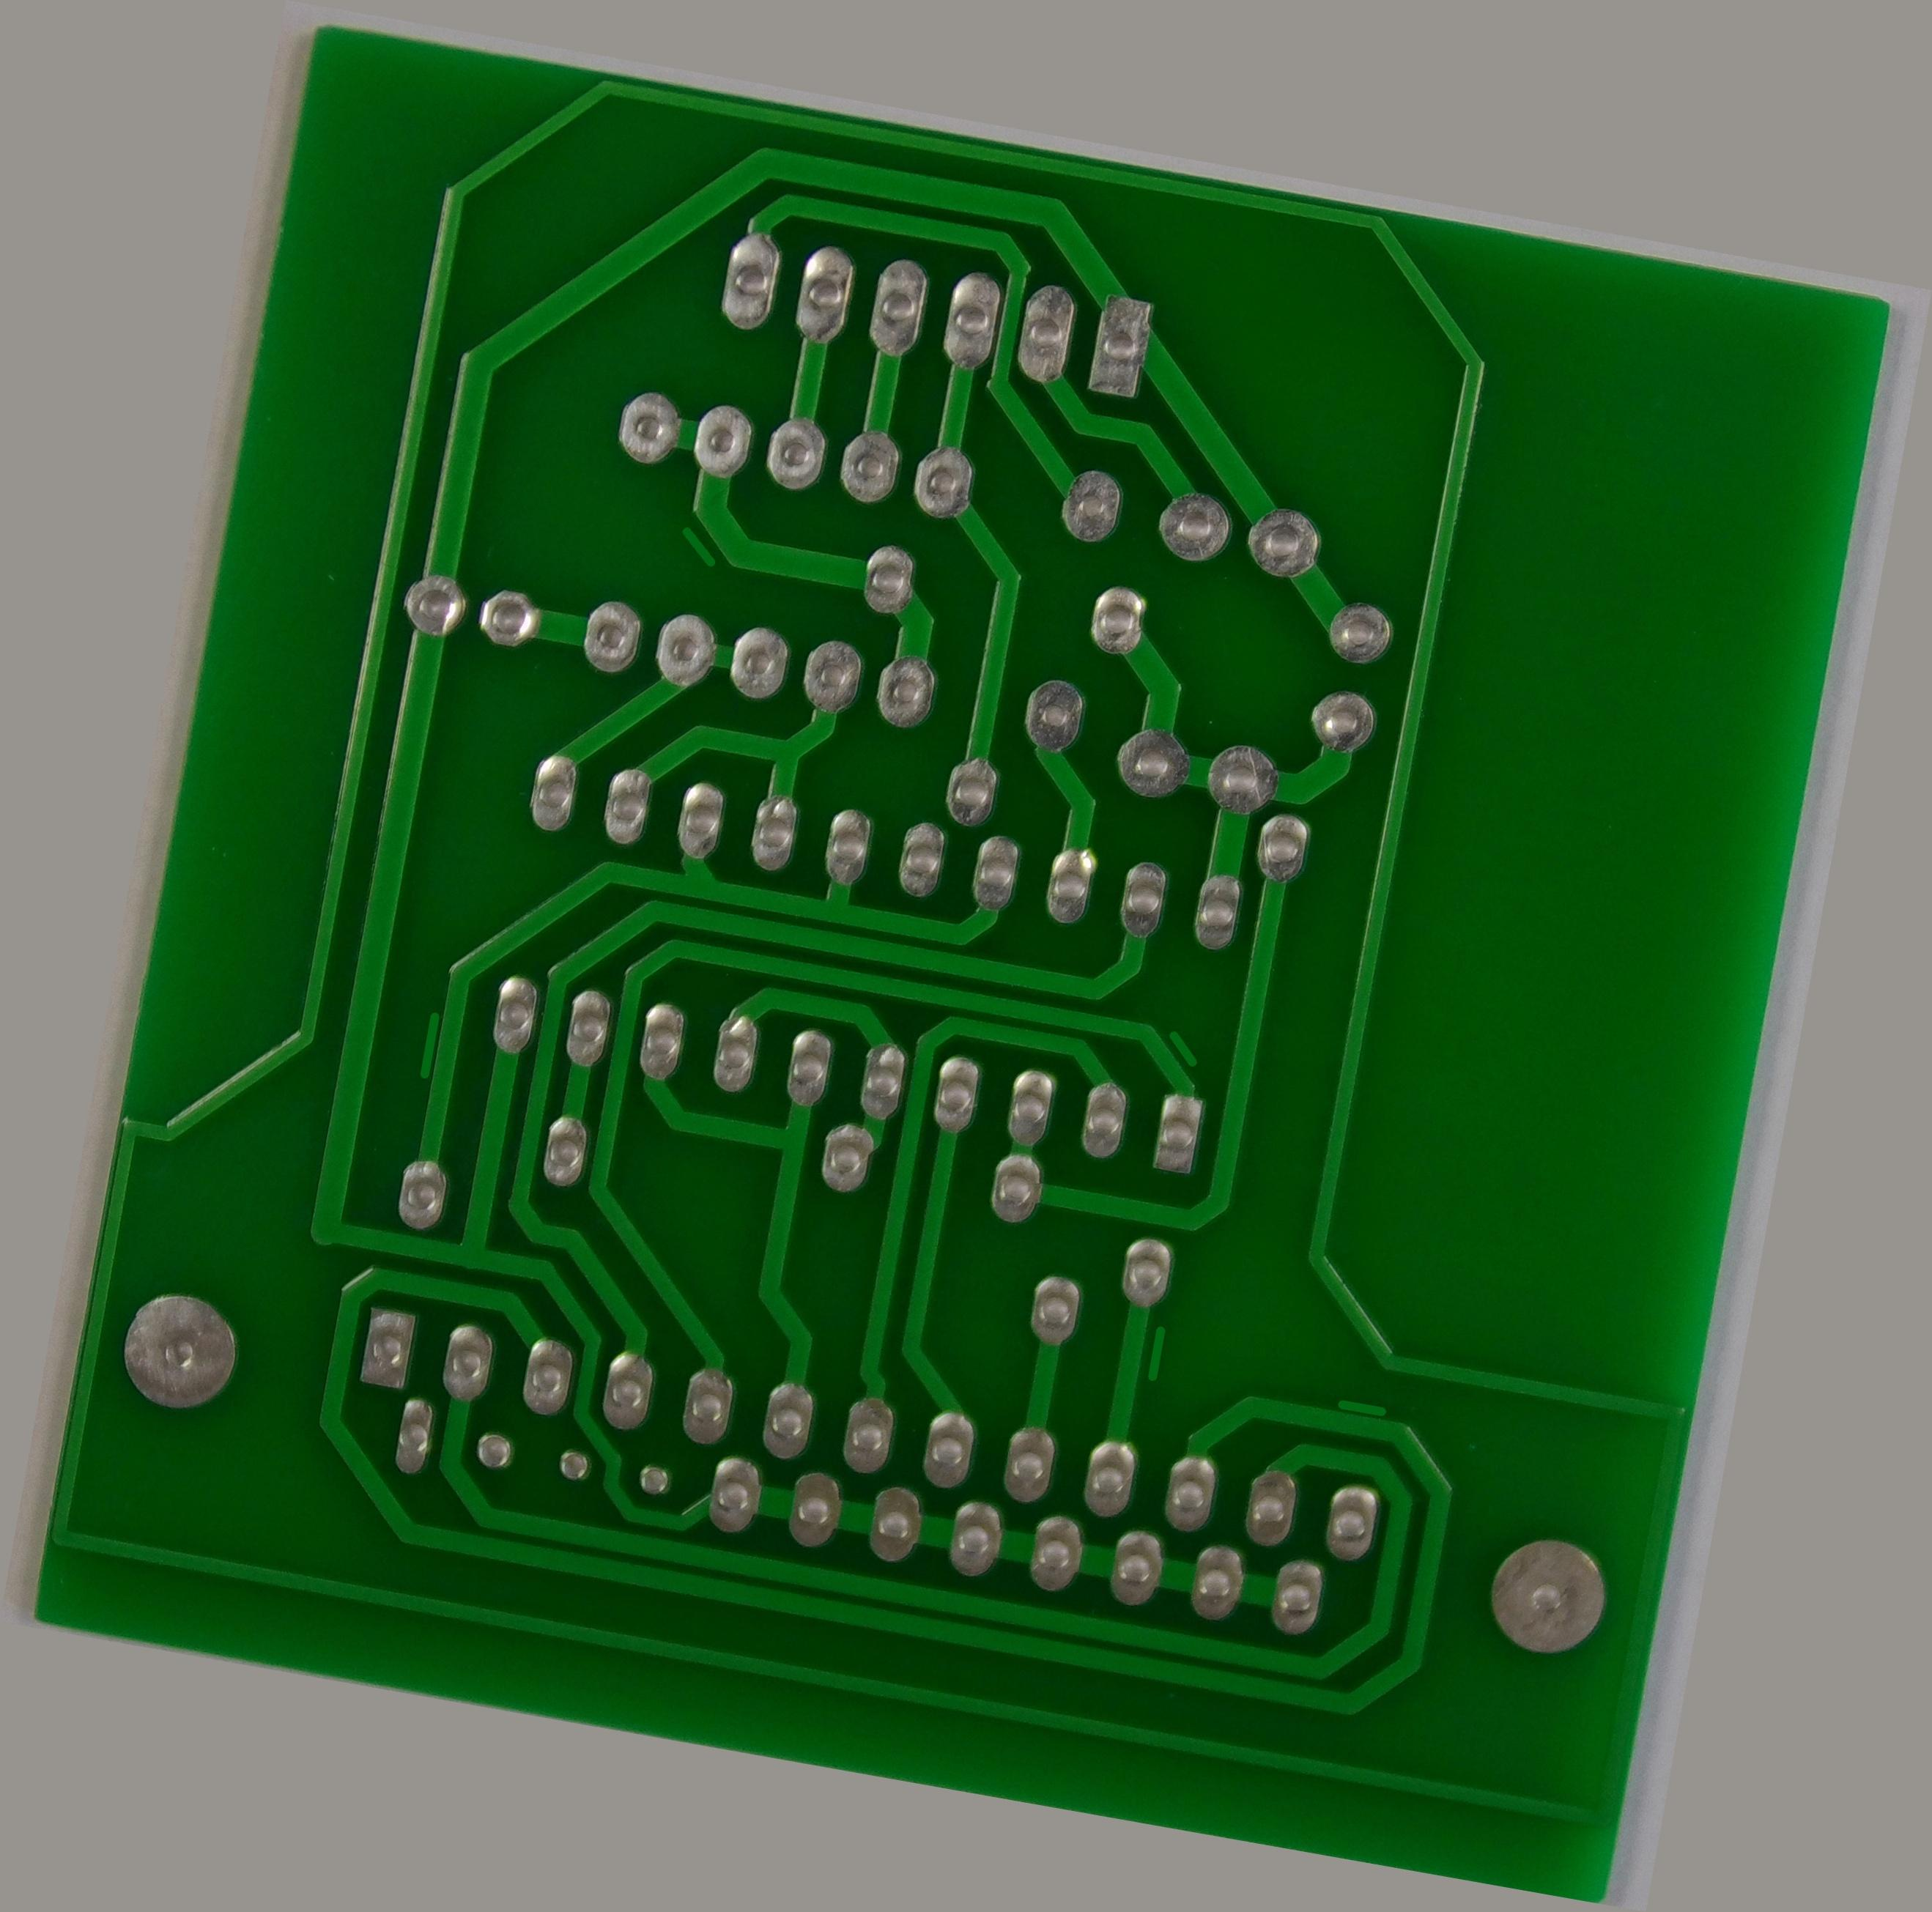spurious_copper: (350, 1114, 391, 1210), (541, 513, 608, 569), (1238, 1331, 1286, 1406), (1205, 986, 1259, 1049), (1471, 1371, 1540, 1420)
